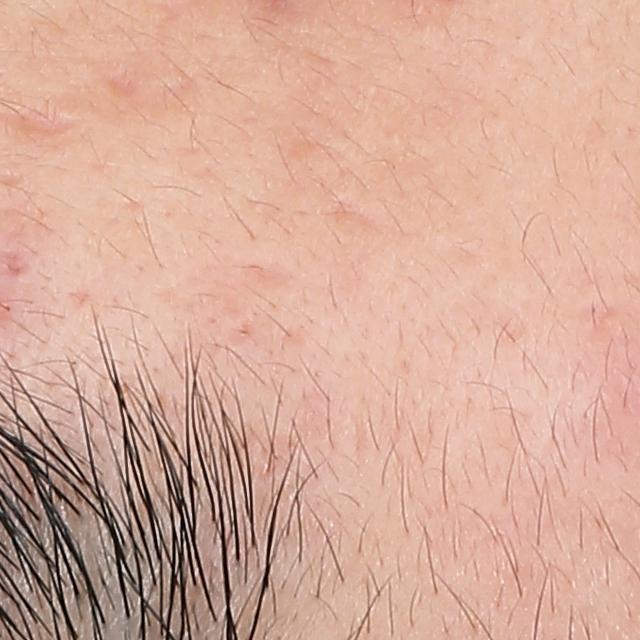atrophic_scar: (157, 251, 313, 351), (316, 190, 399, 233), (84, 57, 152, 104)
